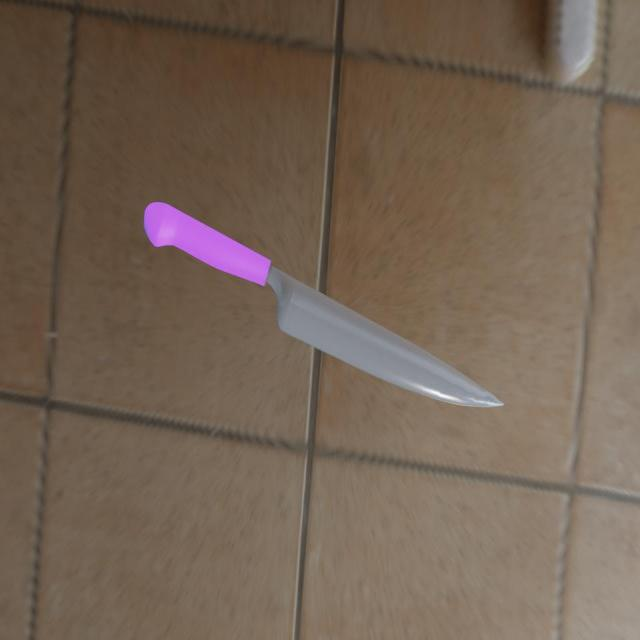knife: (142, 200, 270, 286)
